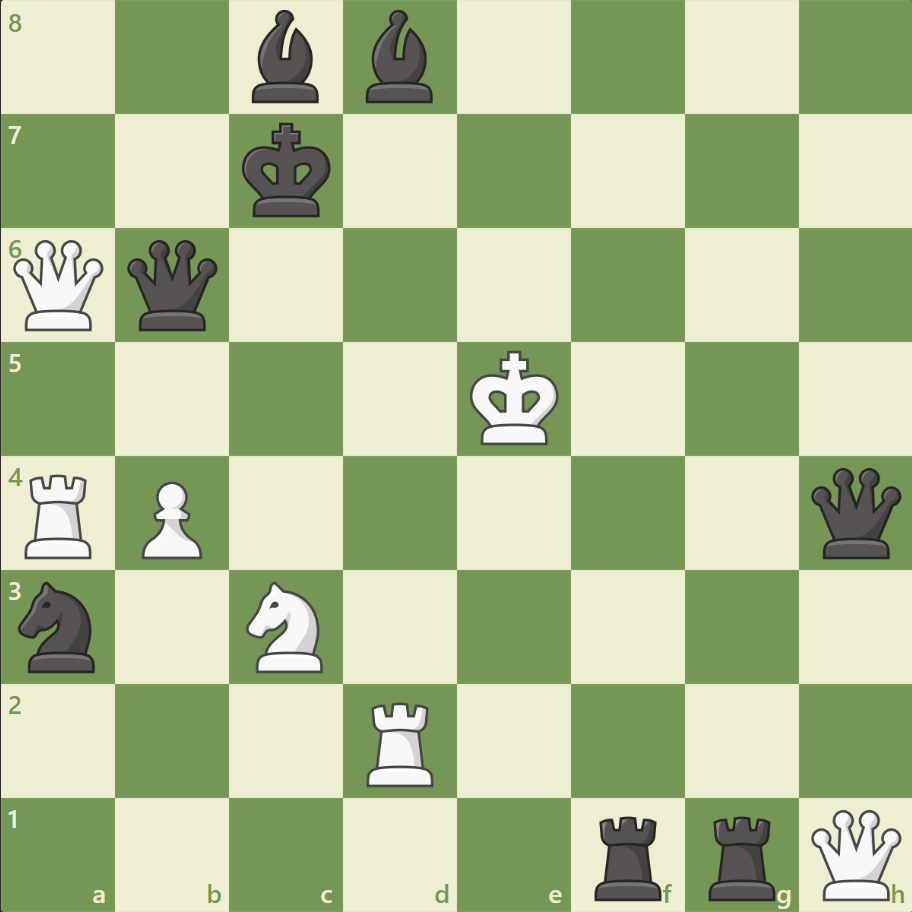K: (465, 344, 565, 452)
N: (238, 575, 335, 677)
P: (133, 473, 208, 564)
Q: (10, 236, 109, 335), (805, 804, 904, 903)
R: (19, 466, 102, 563), (360, 693, 442, 790)
b: (244, 6, 328, 109), (358, 6, 442, 109)
k: (238, 117, 338, 225)
n: (11, 575, 108, 677)
q: (124, 236, 223, 335), (805, 463, 904, 562)
r: (587, 806, 670, 904), (700, 806, 783, 904)
